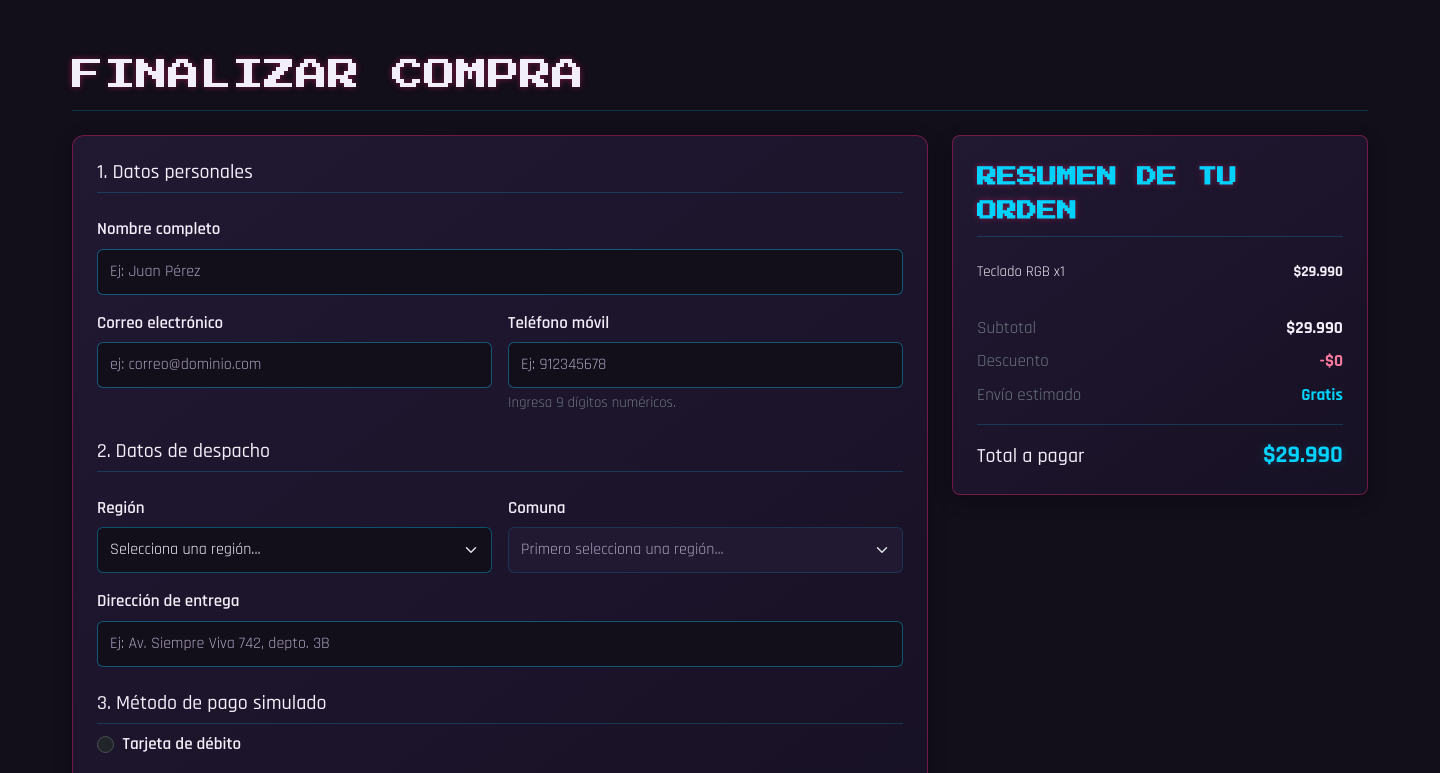
Página Checkout › Debe impedir la compra si faltan otros datos obligatorios
Type "Av. Providencia 123" into the field labelled "Dirección de entrega" at (500, 644), box x1=97 y1=621 x2=903 y2=667
(page scrolled)
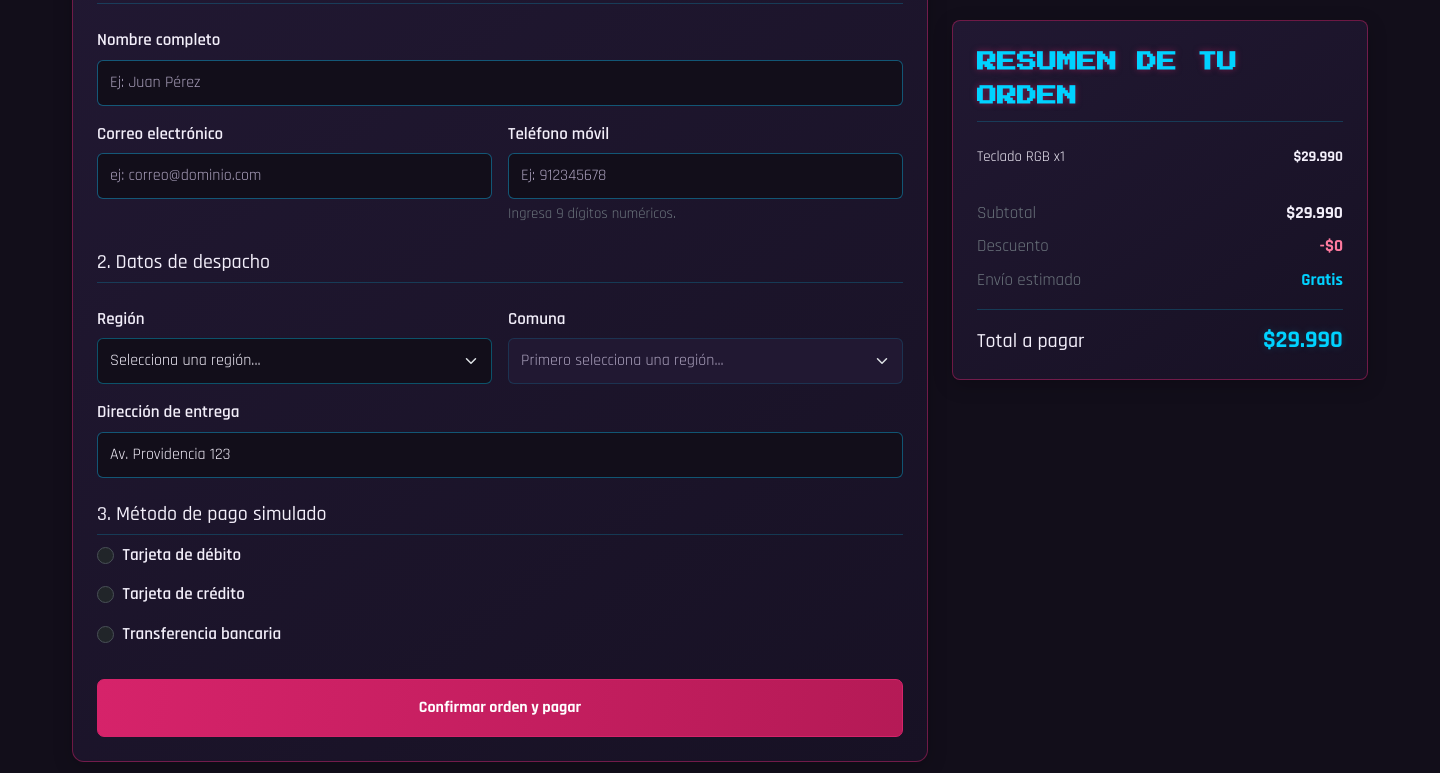
Click the button "Confirmar orden y pagar" at (500, 708), box x1=97 y1=679 x2=903 y2=737
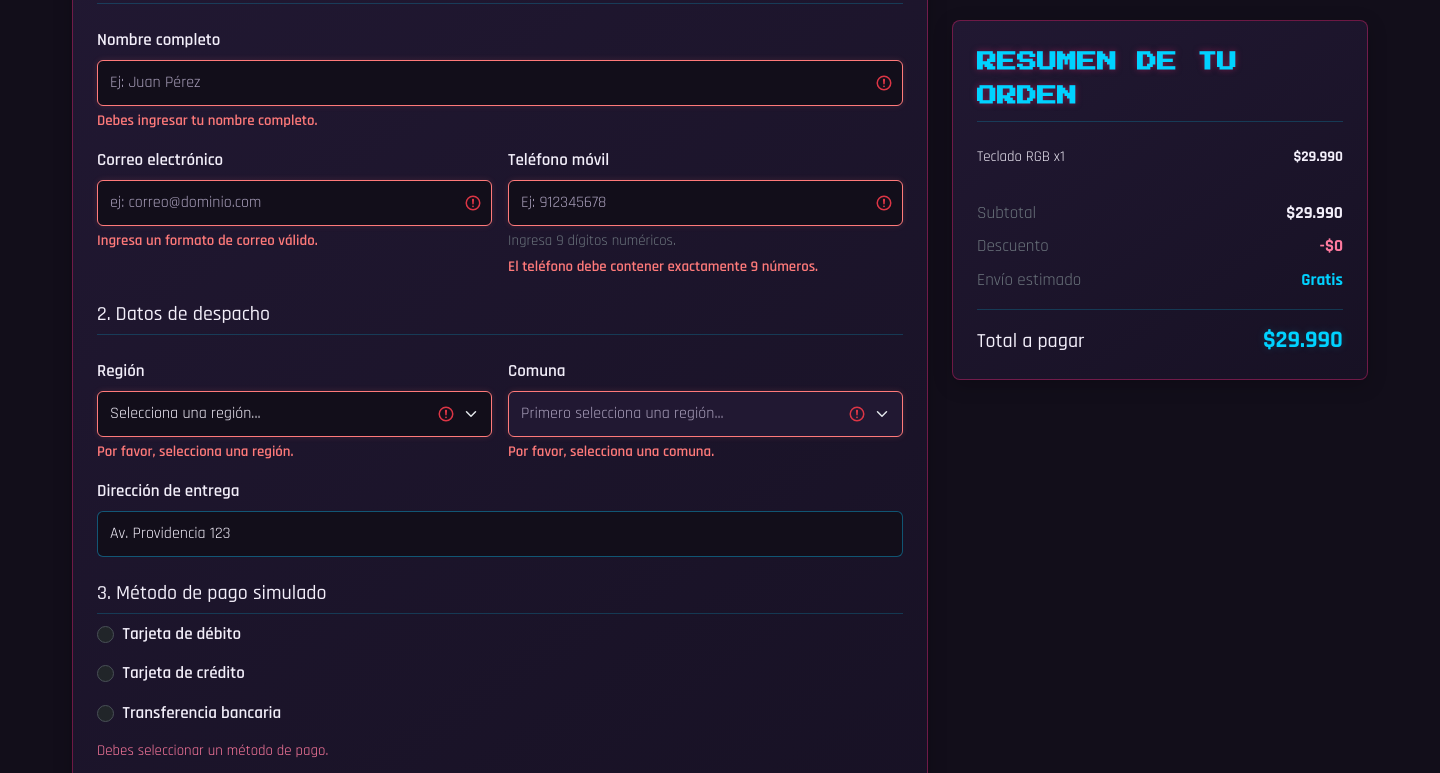
expect the text "Debes ingresar tu nombre completo." is shown: met, box x1=97 y1=111 x2=318 y2=130
expect the text "Ingresa un formato de correo válido." is shown: met, box x1=97 y1=231 x2=318 y2=250
